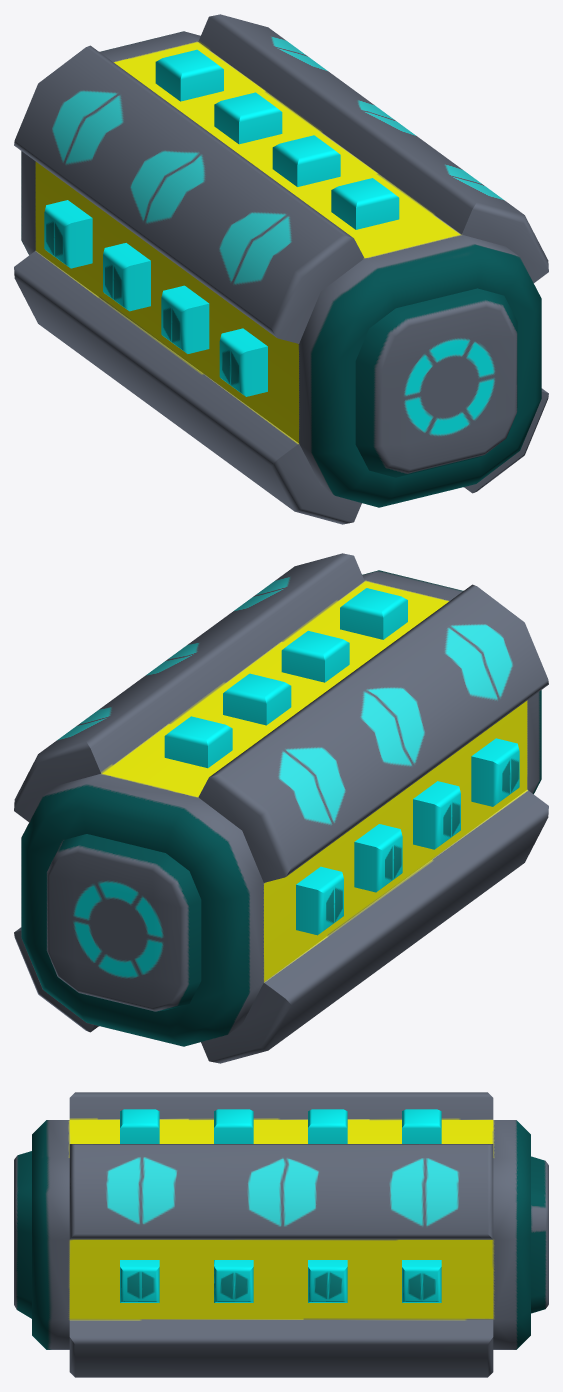
The model's file is SM_Props_29.fbx.
The picture shows the model from 3 angles, top to bottom: view 1: azimuth 30°, elevation 25°; view 2: azimuth 150°, elevation 25°; view 3: azimuth 270°, elevation 25°; orthographic projection. The views are drawn at different scales.
Visible parts, largest first — view 1: SM_Props_29; view 2: SM_Props_29; view 3: SM_Props_29.
Part boxes in pixels (x1=…): SM_Props_29: x1=14, y1=14, x2=548, y2=524; SM_Props_29: x1=14, y1=553, x2=548, y2=1063; SM_Props_29: x1=14, y1=1092, x2=548, y2=1377.
Bounding box in the file's own units: 34.29 × 70.98 × 34.17.
1 material, 1 textured.
